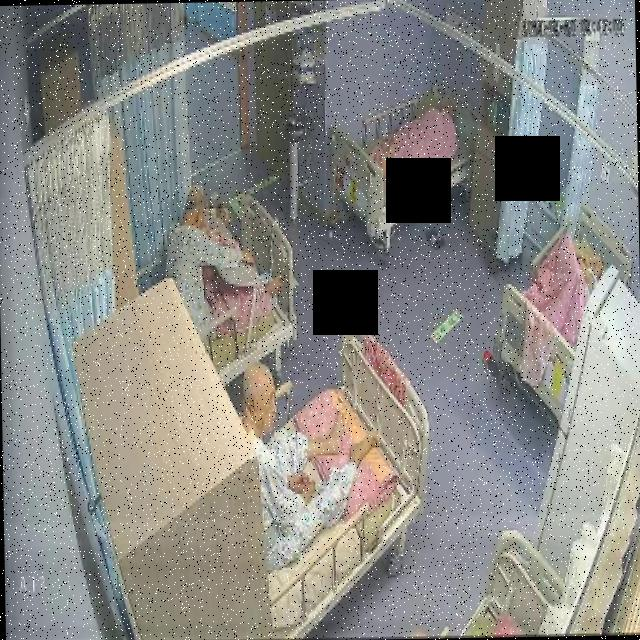bed: (233, 325, 433, 640), (491, 205, 634, 422), (160, 201, 294, 386), (331, 80, 476, 240)
patient: (240, 362, 378, 570), (160, 184, 282, 343)
sit: (240, 360, 380, 569), (160, 184, 282, 340)
